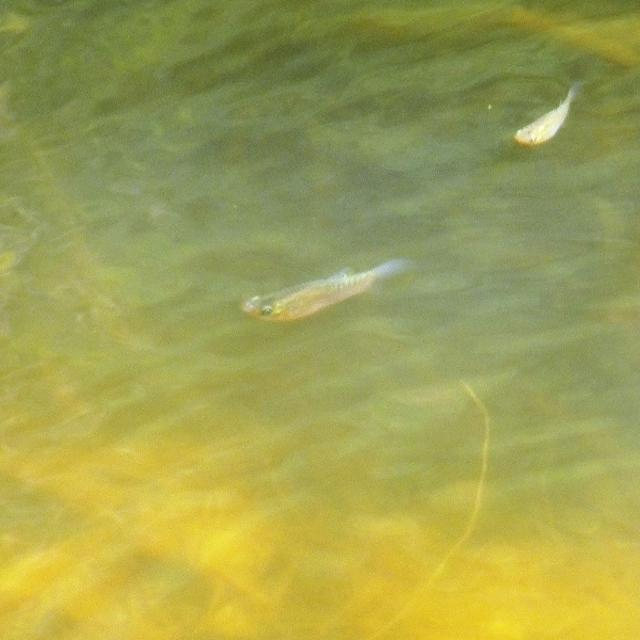Sivrisinek Baligi: (230, 238, 420, 342), (502, 67, 594, 175)
